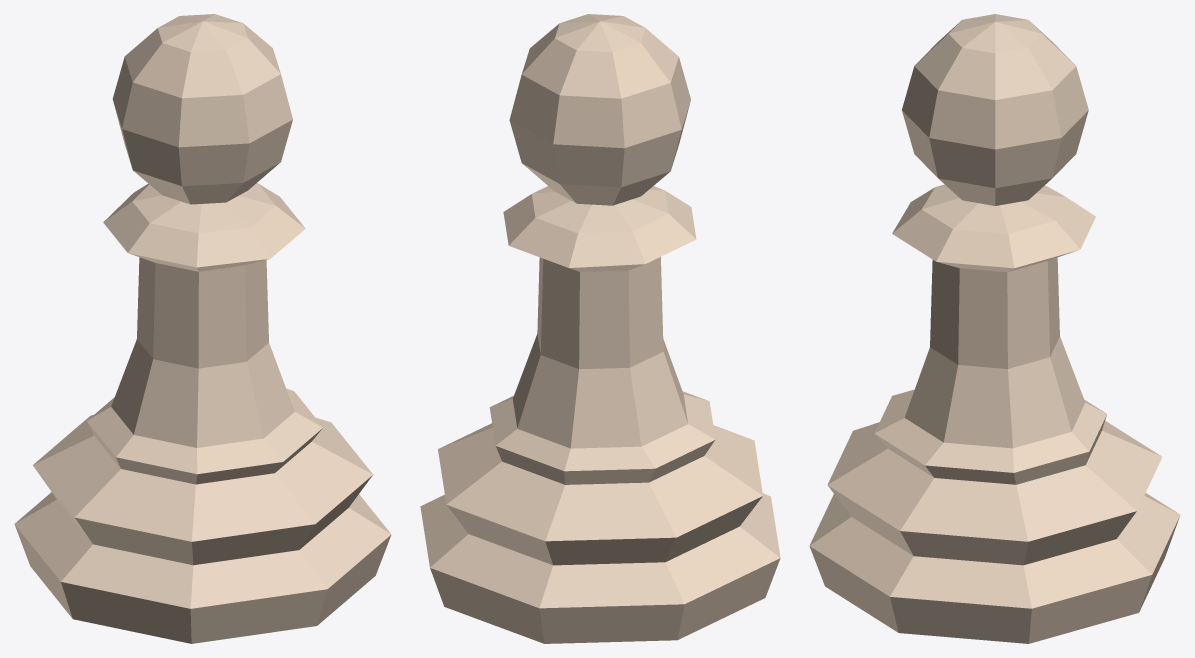
Rendered from Pawn white.fbx.
3 views of the same model, side by side, from view 1: azimuth 30°, elevation 25°; view 2: azimuth 150°, elevation 25°; view 3: azimuth 270°, elevation 25° (orthographic).
Visible parts, largest first — view 1: Pawn.010; view 2: Pawn.010; view 3: Pawn.010.
Part boxes in pixels (bbox=[...]): Pawn.010: bbox=[14, 14, 391, 643]; Pawn.010: bbox=[420, 14, 780, 643]; Pawn.010: bbox=[809, 14, 1180, 643].
Size of the model in its own units: 0.0306 by 0.05 by 0.0306.
